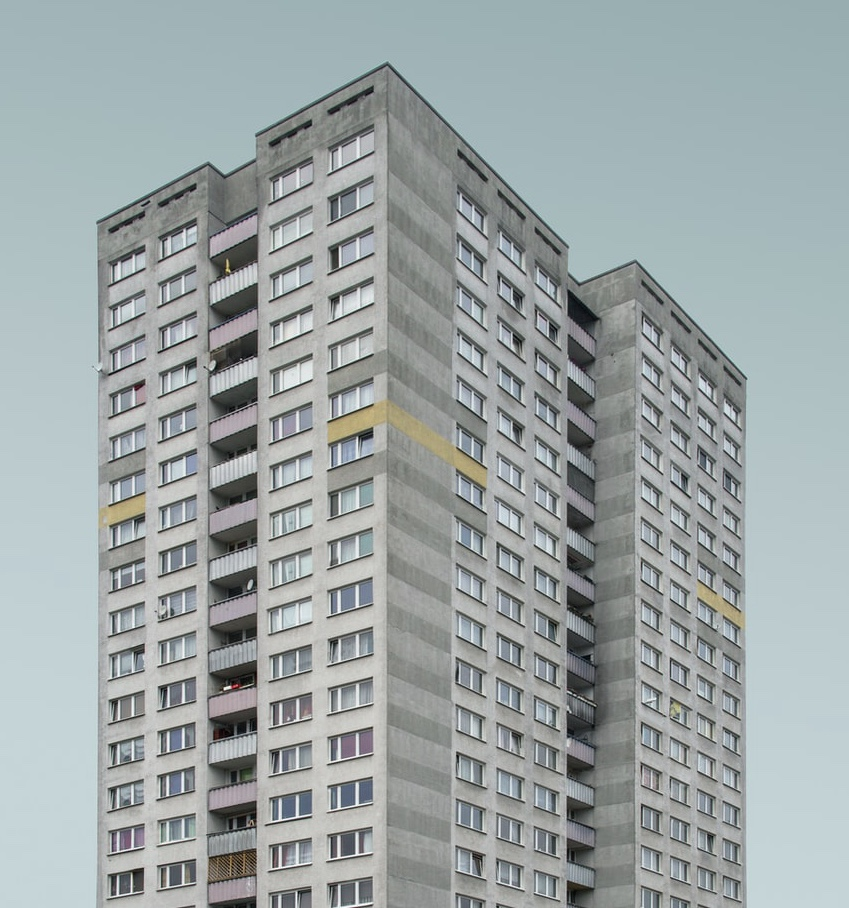Sky Building: (74, 87, 762, 892)
